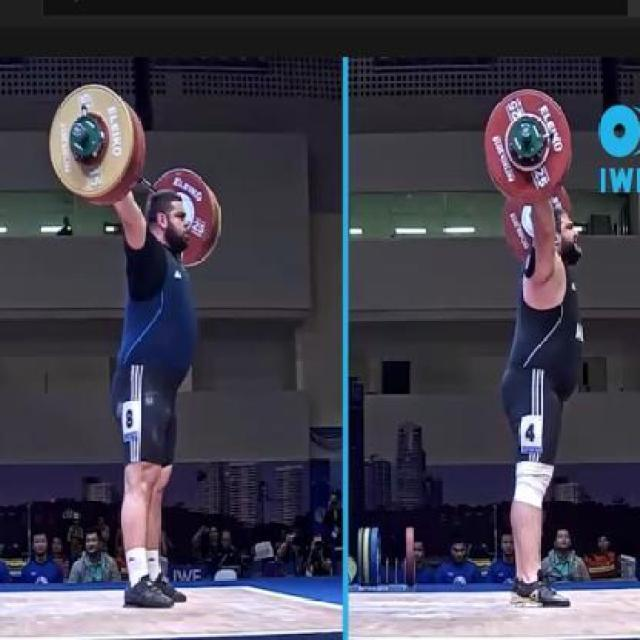barbell: (481, 86, 578, 210), (43, 80, 139, 205)
